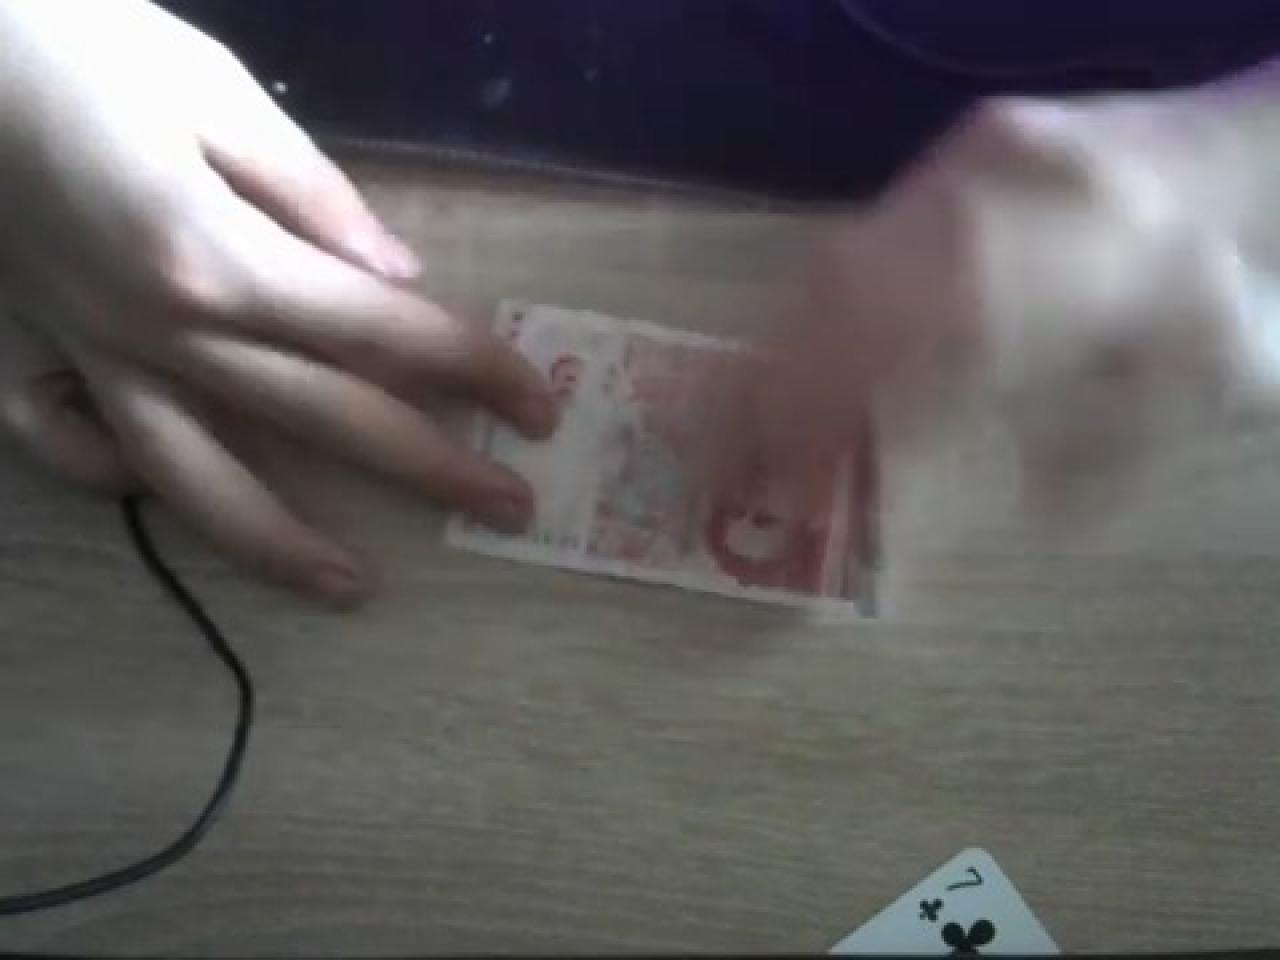5leva: (456, 298, 715, 560)
